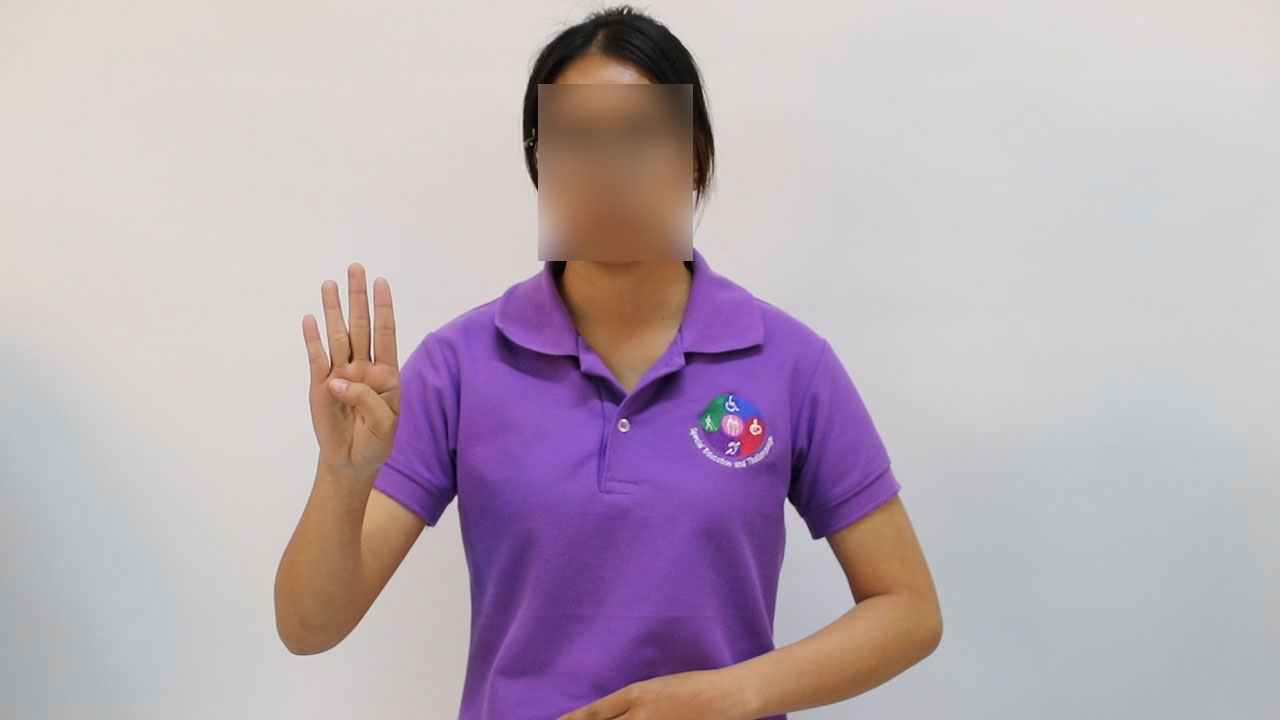bor: (286, 255, 413, 504)
